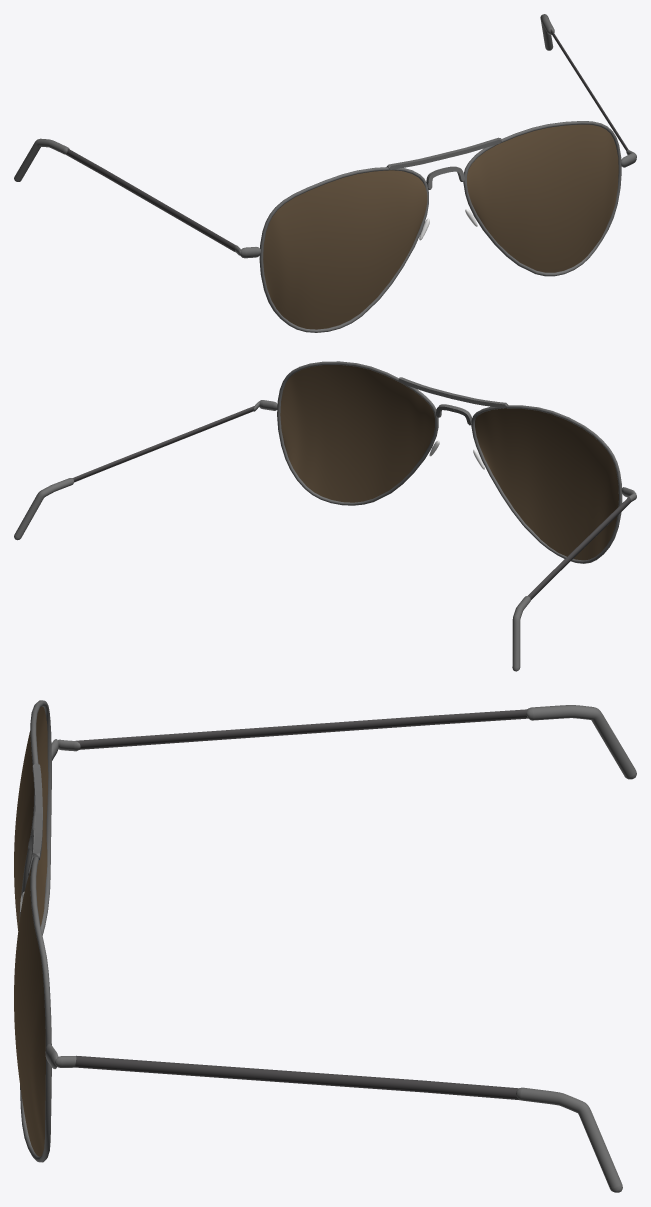
File: aviators.obj
The picture shows the model from 3 angles, top to bottom: view 1: azimuth 30°, elevation 25°; view 2: azimuth 150°, elevation 25°; view 3: azimuth 270°, elevation 25°; orthographic projection. The views are drawn at different scales.
Visible parts, largest first — view 1: c0001.61407.Mirror, c0001.61407, s0007.16308.Mirror, i0000.95844.Mirror, i0000.95844, s0007.16308; view 2: c0001.61407, c0001.61407.Mirror, i0000.95844, i0000.95844.Mirror, s0007.16308, s0007.16308.Mirror; view 3: s0007.16308, s0007.16308.Mirror, c0001.61407, c0001.61407.Mirror, i0000.95844, i0000.95844.Mirror.
Part boxes in pixels (bbox=[...]): c0001.61407.Mirror: bbox=[263, 170, 427, 329]; c0001.61407: bbox=[467, 124, 618, 272]; s0007.16308.Mirror: bbox=[14, 138, 236, 251]; i0000.95844.Mirror: bbox=[259, 167, 428, 332]; i0000.95844: bbox=[463, 121, 621, 276]; s0007.16308: bbox=[540, 14, 628, 150]; c0001.61407: bbox=[280, 365, 434, 502]; c0001.61407.Mirror: bbox=[475, 408, 618, 560]; i0000.95844: bbox=[277, 361, 438, 505]; i0000.95844.Mirror: bbox=[471, 405, 622, 563]; s0007.16308: bbox=[14, 405, 255, 540]; s0007.16308.Mirror: bbox=[512, 497, 630, 671]; s0007.16308: bbox=[75, 1055, 622, 1192]; s0007.16308.Mirror: bbox=[76, 705, 636, 779]; c0001.61407: bbox=[14, 868, 45, 1156]; c0001.61407.Mirror: bbox=[14, 706, 48, 930]; i0000.95844: bbox=[20, 856, 51, 1162]; i0000.95844.Mirror: bbox=[19, 700, 51, 935].
Bounding box in the file's own units: 0.1832 × 0.0502 × 0.1124.
